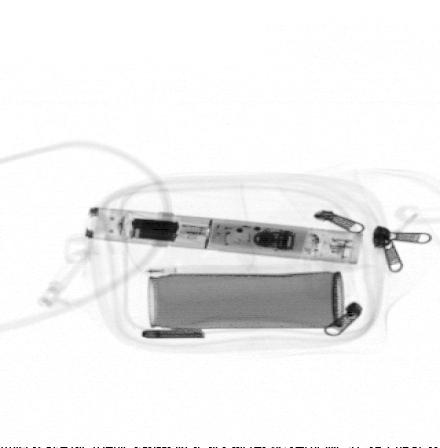Baton: (84, 207, 366, 265)
